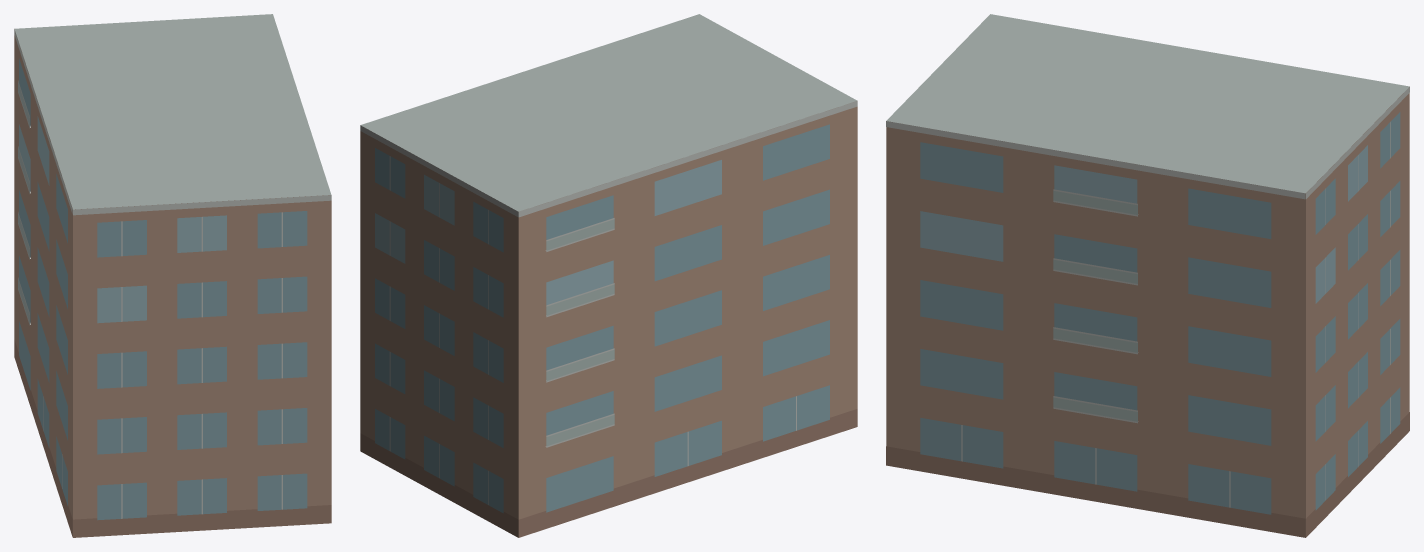
The model's file is survey-upis-32566688.glb.
3 views of the same model, side by side, from view 1: azimuth 30°, elevation 25°; view 2: azimuth 150°, elevation 25°; view 3: azimuth 270°, elevation 25° (orthographic). The views are drawn at different scales.
Visible parts, largest first — view 1: survey-upis-32566688.tmp; view 2: survey-upis-32566688.tmp; view 3: survey-upis-32566688.tmp.
Part boxes in pixels (left/top/right/bottom): survey-upis-32566688.tmp: left=14, top=14, right=331, bottom=537; survey-upis-32566688.tmp: left=360, top=14, right=857, bottom=537; survey-upis-32566688.tmp: left=886, top=14, right=1409, bottom=537.
Bounding box in the file's own units: 15.53 × 13.9 × 19.16.
